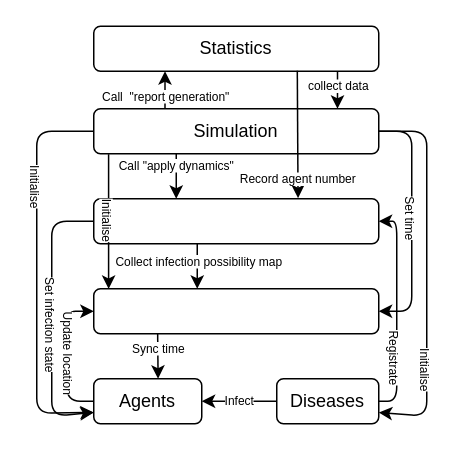
This 465x455 diagram has some shape labels left out. Here are the shapes that lost their labels. From the top down, the centre of each, then its label:
(235,220): Dynamics
(235,310): Environment
